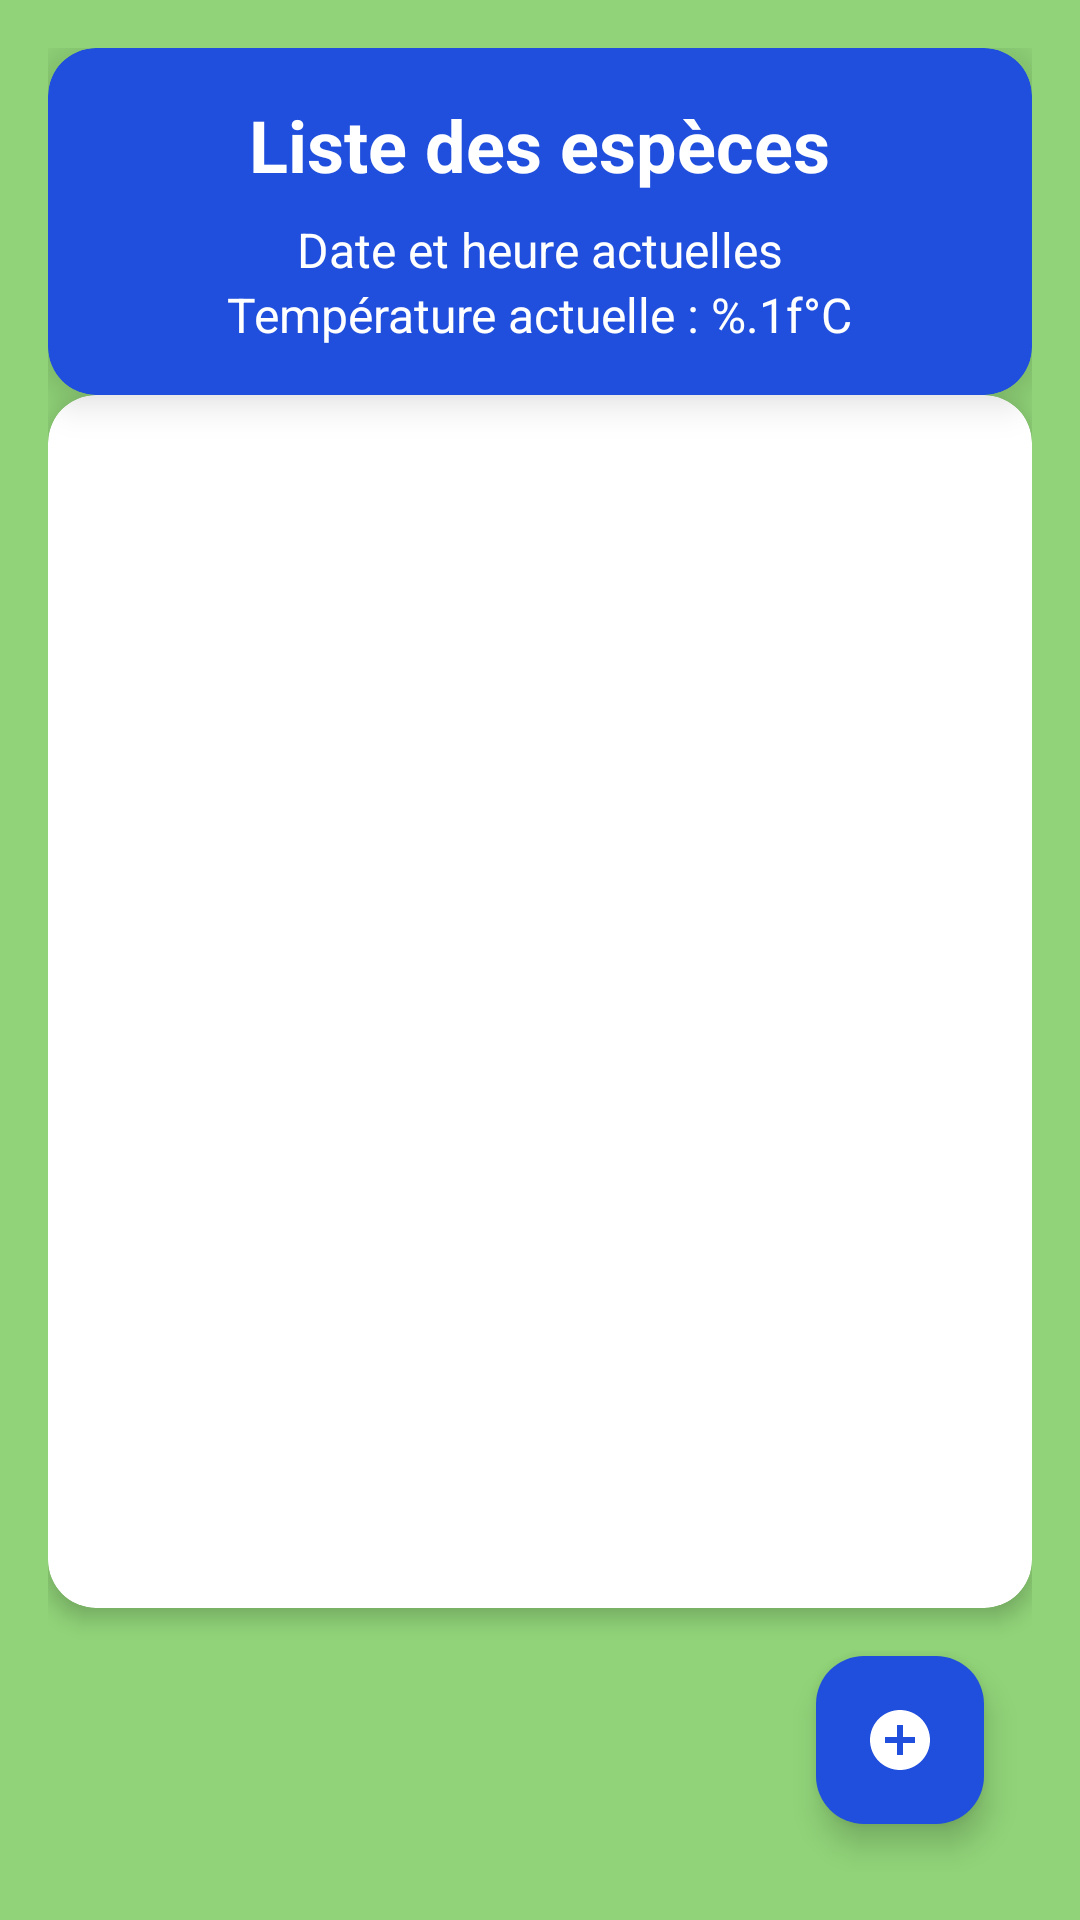

Where icons sit on this 1080px x 1920px app screen, as (x1, y1, x2, y2):
Ajouter une nouvelle espèce: (816, 1656, 984, 1824)
